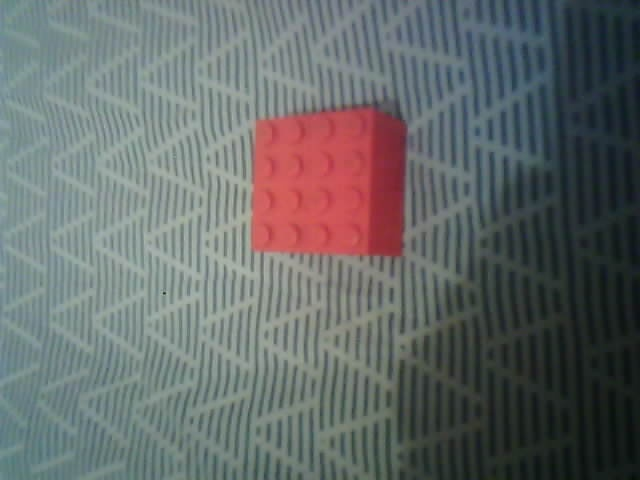lego: (250, 104, 408, 258)
